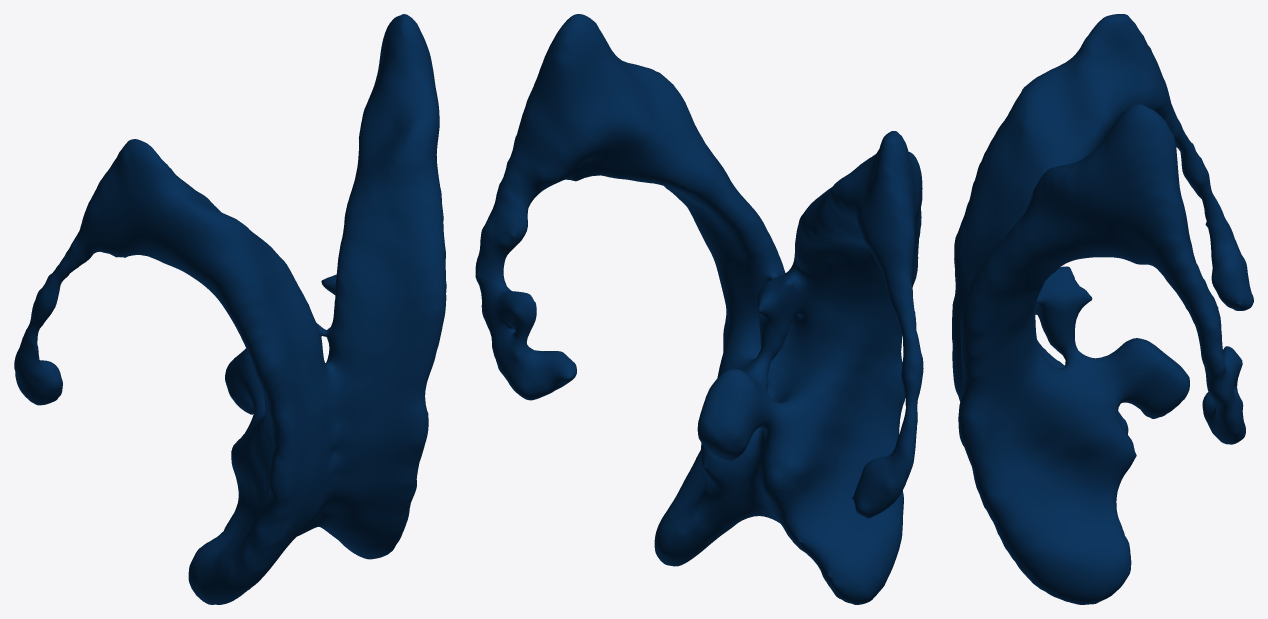
The model's file is Ventricle.obj.
3 renders of one model, left to right at view 1: azimuth 30°, elevation 25°; view 2: azimuth 150°, elevation 25°; view 3: azimuth 270°, elevation 25°, orthographic. The views are drawn at different scales.
Parts seen in each view (by area): view 1: grp1; view 2: grp1; view 3: grp1.
Part boxes in pixels (x1,y1,x2,y2): grp1: (14, 14, 446, 604); grp1: (475, 14, 923, 604); grp1: (952, 14, 1253, 604).
Bounding box in the file's own units: 76.27 × 91.39 × 46.67.
